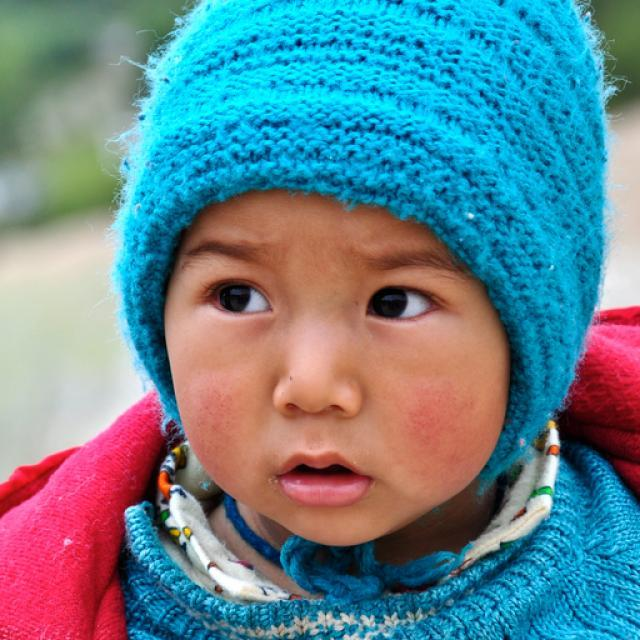surprise: (162, 190, 510, 550)
